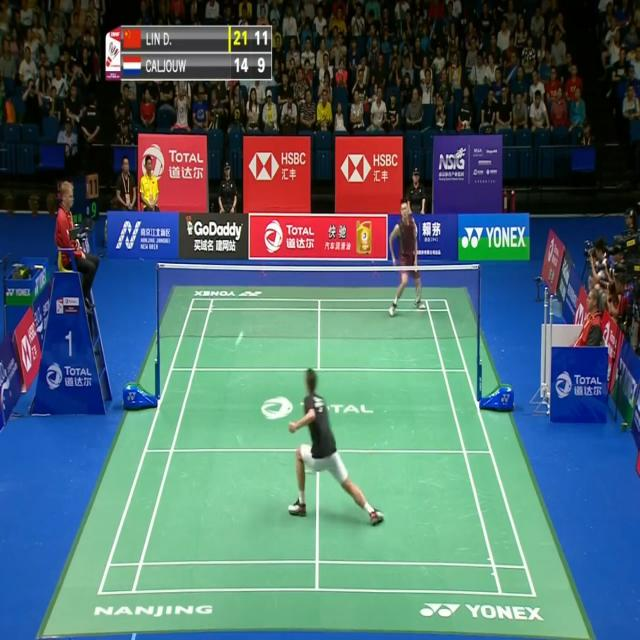Player1: (267, 354, 389, 532)
Player2: (380, 194, 436, 322)
